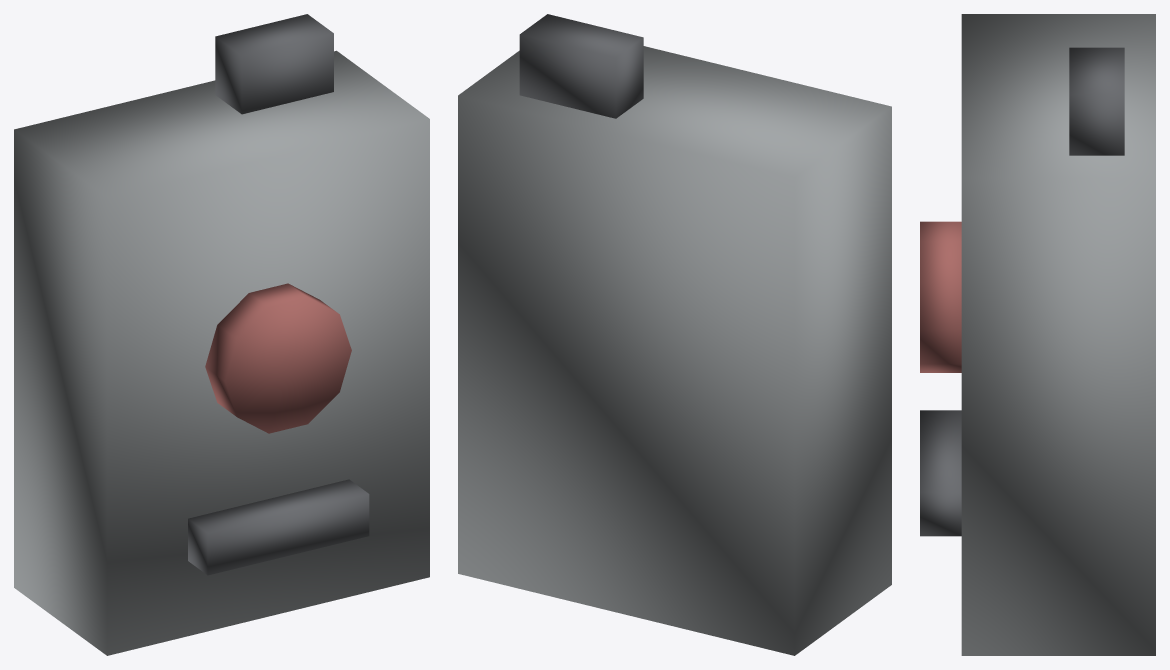
Rendered from push_button_station__service.glb.
The picture shows the model from 3 angles, left to right: view 1: azimuth 30°, elevation 25°; view 2: azimuth 150°, elevation 25°; view 3: azimuth 270°, elevation 25°; orthographic projection. The views are drawn at different scales.
Parts seen in each view (by area): view 1: world; view 2: world; view 3: world.
Part boxes in pixels (x1=…): world: x1=14, y1=14, x2=429, y2=655; world: x1=458, y1=14, x2=891, y2=655; world: x1=920, y1=14, x2=1155, y2=655.
Bounding box in the file's own units: 0.28 × 0.4285 × 0.17.
